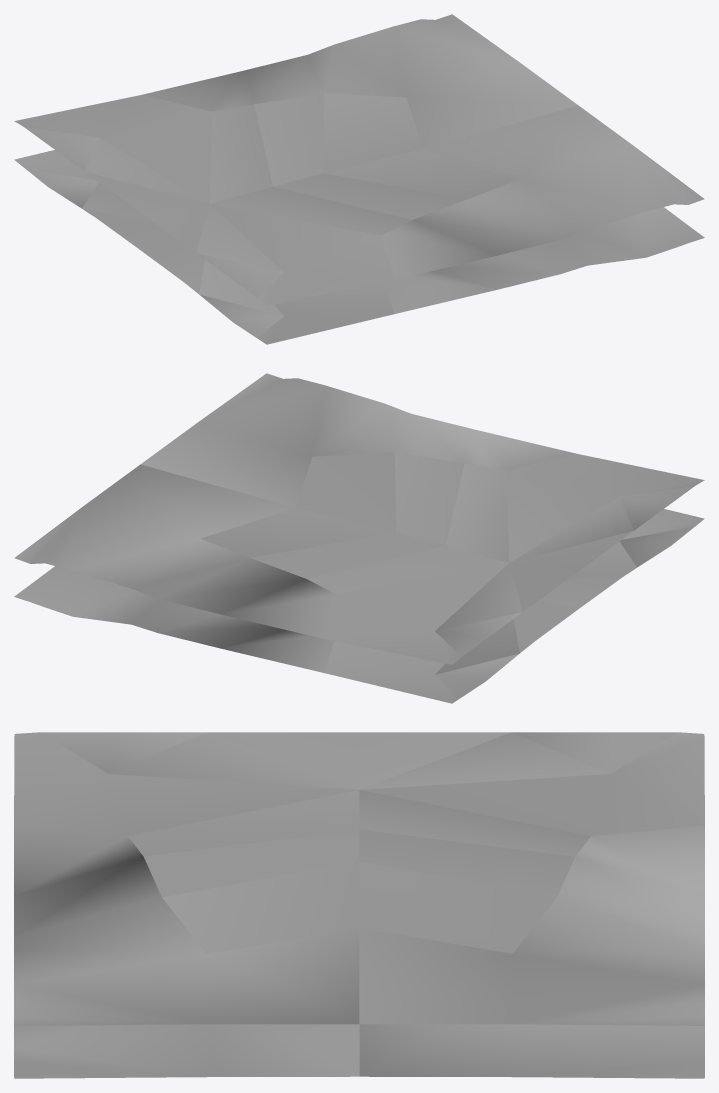
File: Shelf1.fbx
The picture shows the model from 3 angles, top to bottom: view 1: azimuth 30°, elevation 25°; view 2: azimuth 150°, elevation 25°; view 3: azimuth 270°, elevation 25°; orthographic projection. The views are drawn at different scales.
Parts seen in each view (by area): view 1: Shelf1; view 2: Shelf1; view 3: Shelf1.
Part boxes in pixels (x1,y1,x2,y2): Shelf1: (14, 14, 704, 344); Shelf1: (14, 373, 704, 703); Shelf1: (14, 732, 704, 1078).
Size of the model in its own units: 500 by 57.63 by 500.
